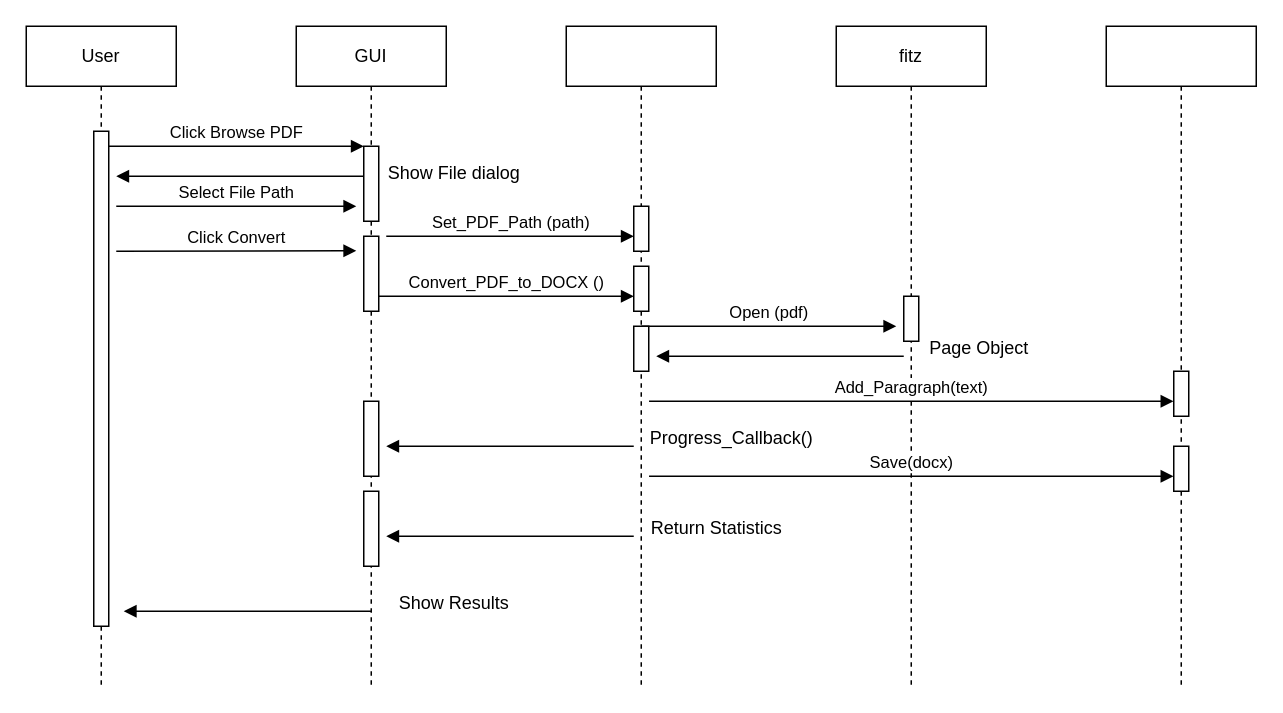
The diagram is 1283 pixels wide and 713 high, and some of its shapes have lost their labels. The shapes that lost their labels are listed below. From the top down, each one's box as (x1, y1, x2, y2) in pixels, then its label:
(565, 25, 716, 686): Converter
(1105, 25, 1256, 686): DOCX
